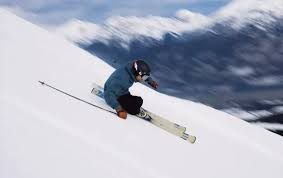skis: (91, 86, 196, 144)
